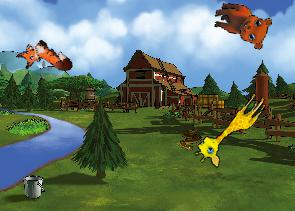bear: (209, 0, 273, 51)
fox: (13, 31, 75, 89)
giraffe: (190, 83, 270, 172)
